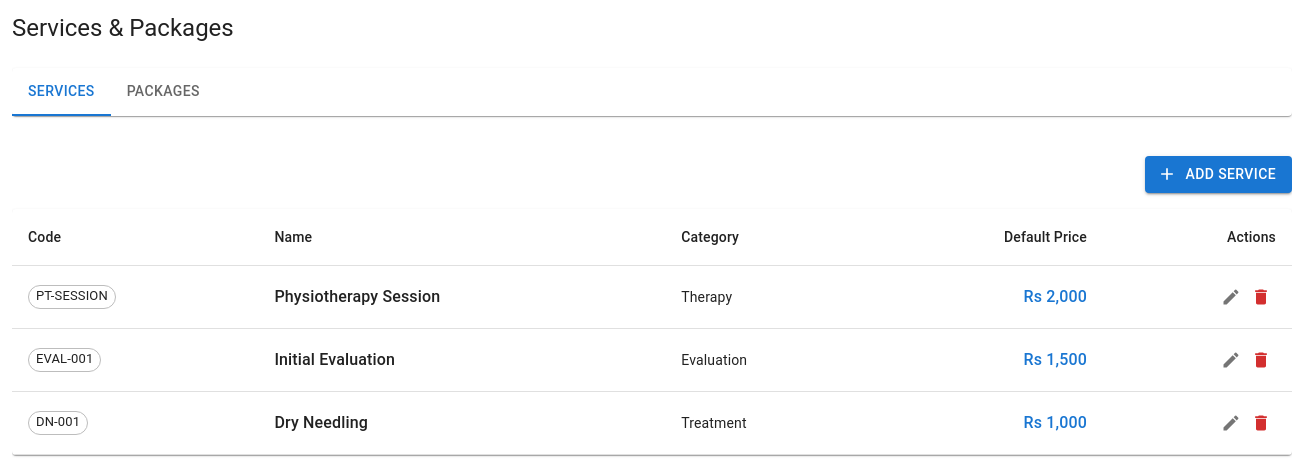
Test: Service Management Integration Tests › Tab Navigation and Data Loading › should maintain data after switching tabs
This screenshot has width=1304, height=474.
Expected: the text "Physiotherapy Session" is shown, [274, 286, 440, 306]
Switch to Packages tab
Step 1. Click the tab "Packages" → (163, 92), box [111, 68, 216, 116]
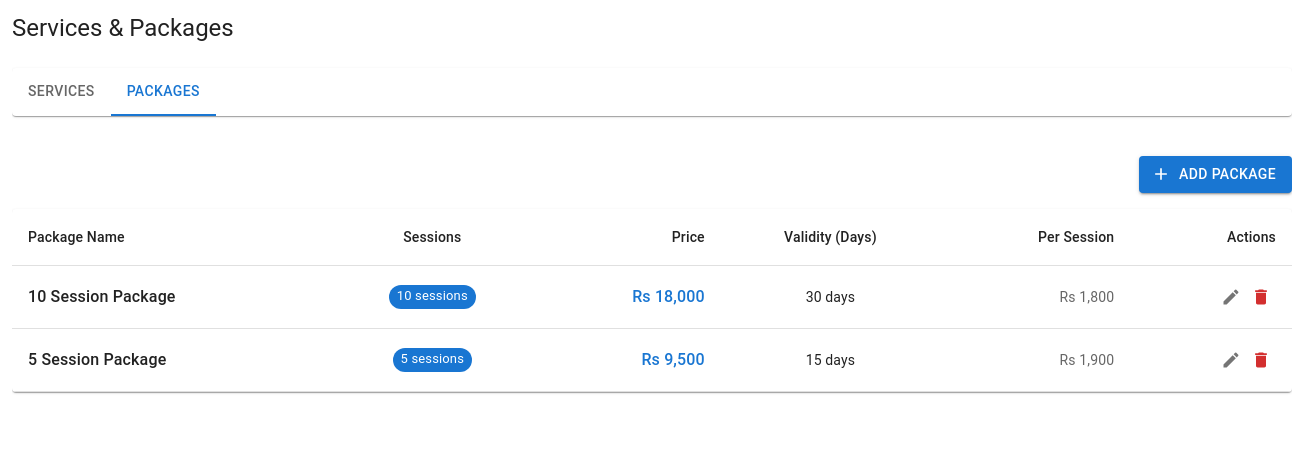
Expected: the text "10 Session Package" is shown, [28, 286, 176, 306]
Switch back to Services tab
Step 2. Click the tab "Services" → (61, 92), box [12, 68, 111, 116]
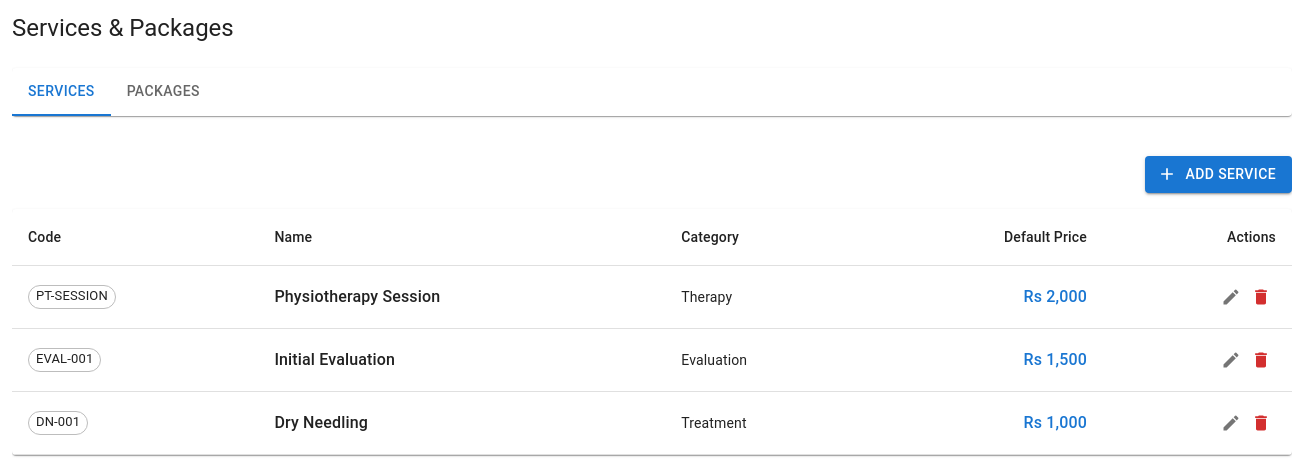
Expected: the text "Physiotherapy Session" is shown, [274, 286, 440, 306]
